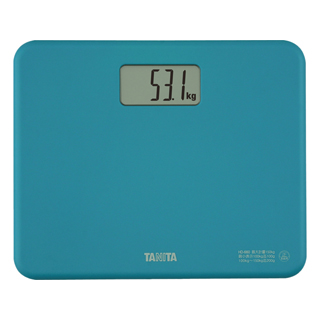LCD: (118, 63, 202, 105)
